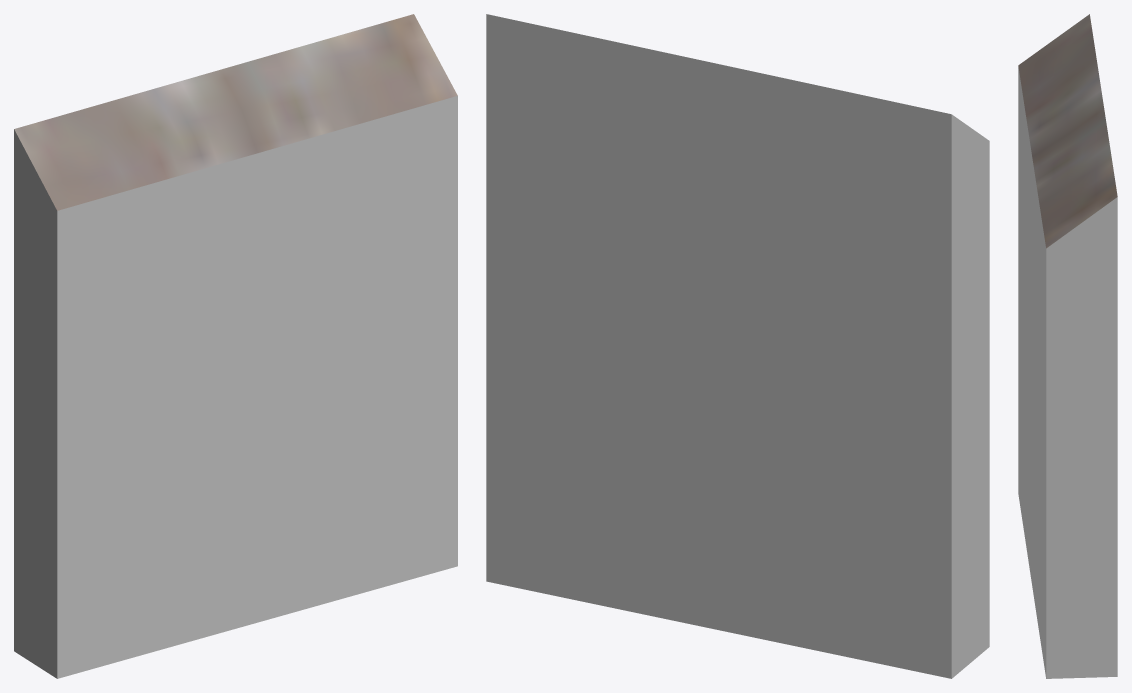
Rendered from DEBW_0010007THXb.gltf.
3 views of the same model, side by side, from view 1: azimuth 30°, elevation 25°; view 2: azimuth 150°, elevation 25°; view 3: azimuth 270°, elevation 25° (orthographic). The views are drawn at different scales.
Parts seen in each view (by area): view 1: Z_UP; view 2: Z_UP; view 3: Z_UP.
Boxes of the visible parts, box(x1,y1,x2,y2) form: Z_UP: box(14, 14, 457, 678); Z_UP: box(486, 14, 989, 678); Z_UP: box(1018, 14, 1117, 678).
Bounding box in the file's own units: 6.2 × 7.41 × 1.39.
Materials: 2 (1 with a texture image).
